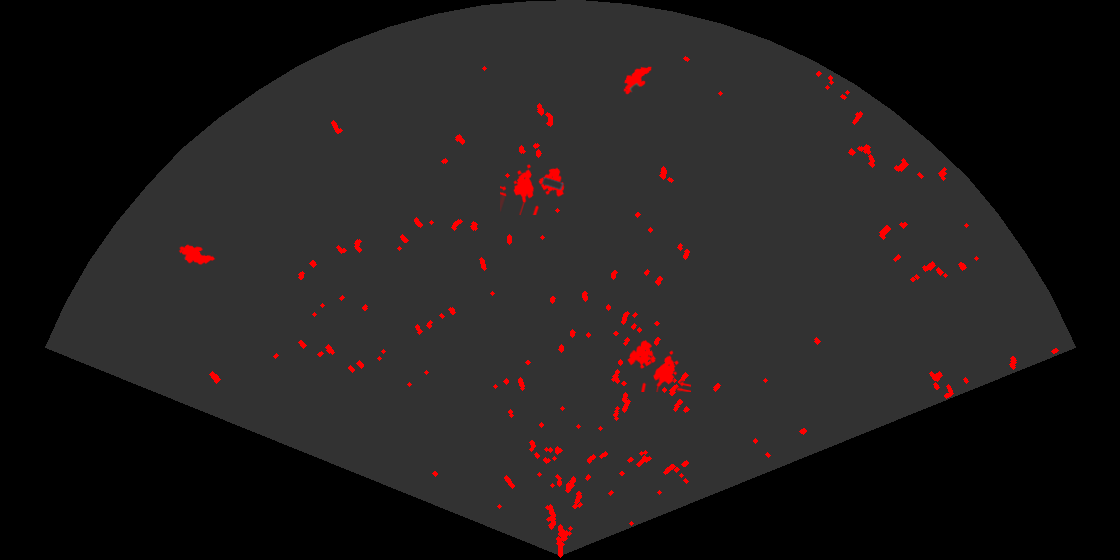AUV: (622, 65, 654, 96), (177, 243, 217, 267)
cage: (626, 338, 691, 392), (500, 163, 566, 215)
